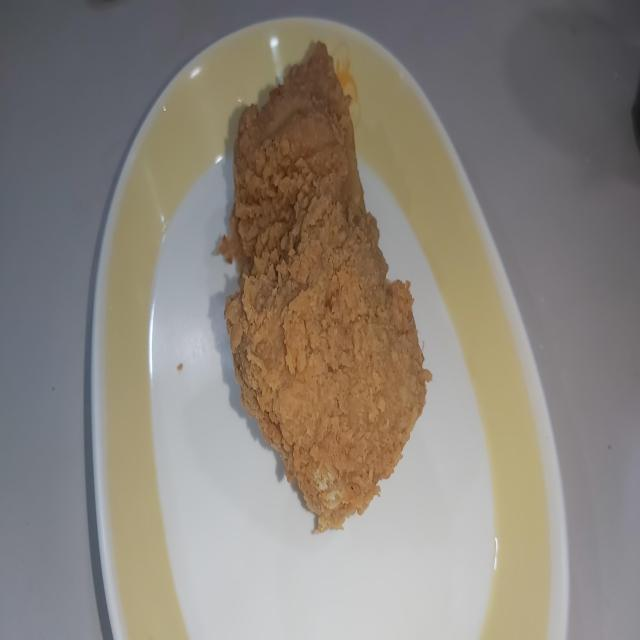Chicken -Fried Chicken-: (214, 47, 436, 511)
